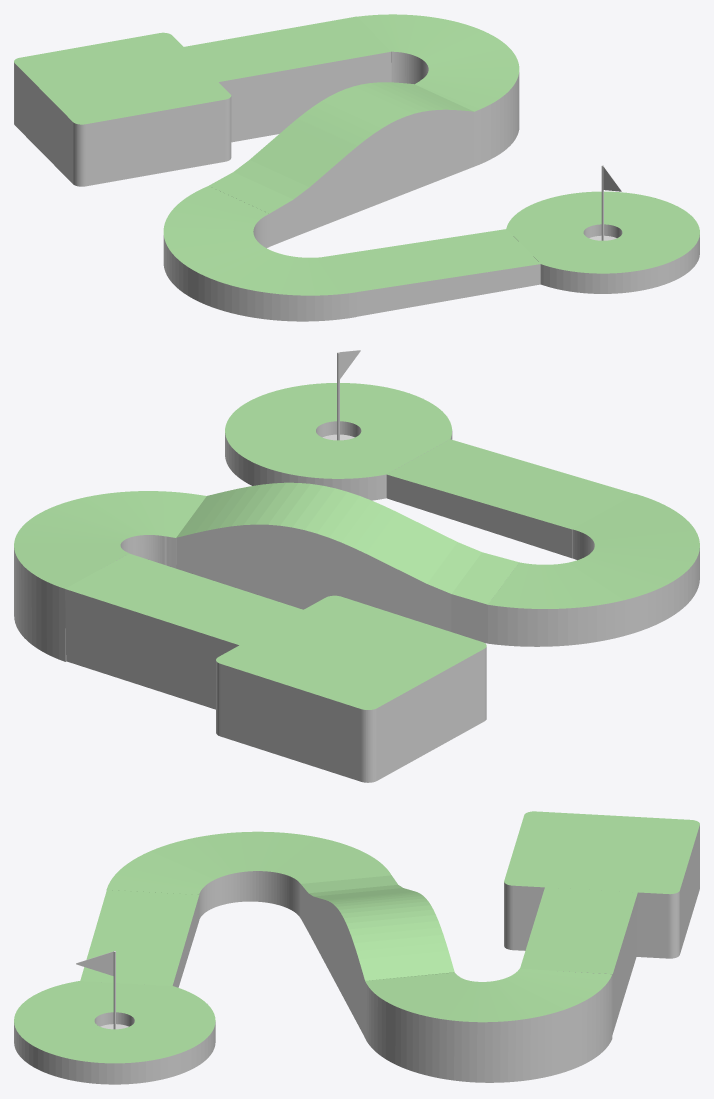
Rendered from GolfStage02.glb.
3 views of the same model, one above another, from view 1: azimuth 30°, elevation 25°; view 2: azimuth 150°, elevation 25°; view 3: azimuth 270°, elevation 25° (orthographic). The views are drawn at different scales.
Visible parts, largest first — view 1: Cube.002, ZFT, Plane.001, Cylinder, Cube, Plane, Cube.003; view 2: Cube.002, ZFT, Plane.001, Cube, Cylinder, Plane, Cube.003; view 3: Plane, Cube.002, Cylinder, Plane.001, ZFT, Cube, Cube.003, Cube.001.
Part boxes in pixels (x1=…): Cube.002: x1=14, y1=32, x2=231, y2=186; ZFT: x1=209, y1=82, x2=474, y2=246; Plane.001: x1=163, y1=186, x2=356, y2=321; Cylinder: x1=506, y1=191, x2=699, y2=293; Cube: x1=184, y1=16, x2=391, y2=142; Plane: x1=357, y1=14, x2=519, y2=166; Cube.003: x1=322, y1=229, x2=540, y2=316; Cube.002: x1=216, y1=595, x2=486, y2=782; ZFT: x1=176, y1=482, x2=518, y2=643; Plane.001: x1=488, y1=494, x2=699, y2=646; Cube: x1=65, y1=553, x2=303, y2=709; Cylinder: x1=225, y1=383, x2=452, y2=500; Plane: x1=14, y1=491, x2=206, y2=661; Cube.003: x1=386, y1=439, x2=634, y2=558; Plane: x1=364, y1=968, x2=612, y2=1082; Cube.002: x1=504, y1=811, x2=699, y2=958; Cylinder: x1=14, y1=981, x2=215, y2=1084; Plane.001: x1=106, y1=831, x2=391, y2=919; ZFT: x1=300, y1=875, x2=454, y2=1036; Cube: x1=520, y1=887, x2=637, y2=1034; Cube.003: x1=80, y1=890, x2=199, y2=987; Cube.001: x1=76, y1=951, x2=113, y2=975.
Size of the model in its own units: 4.18 by 0.7942 by 5.44.
